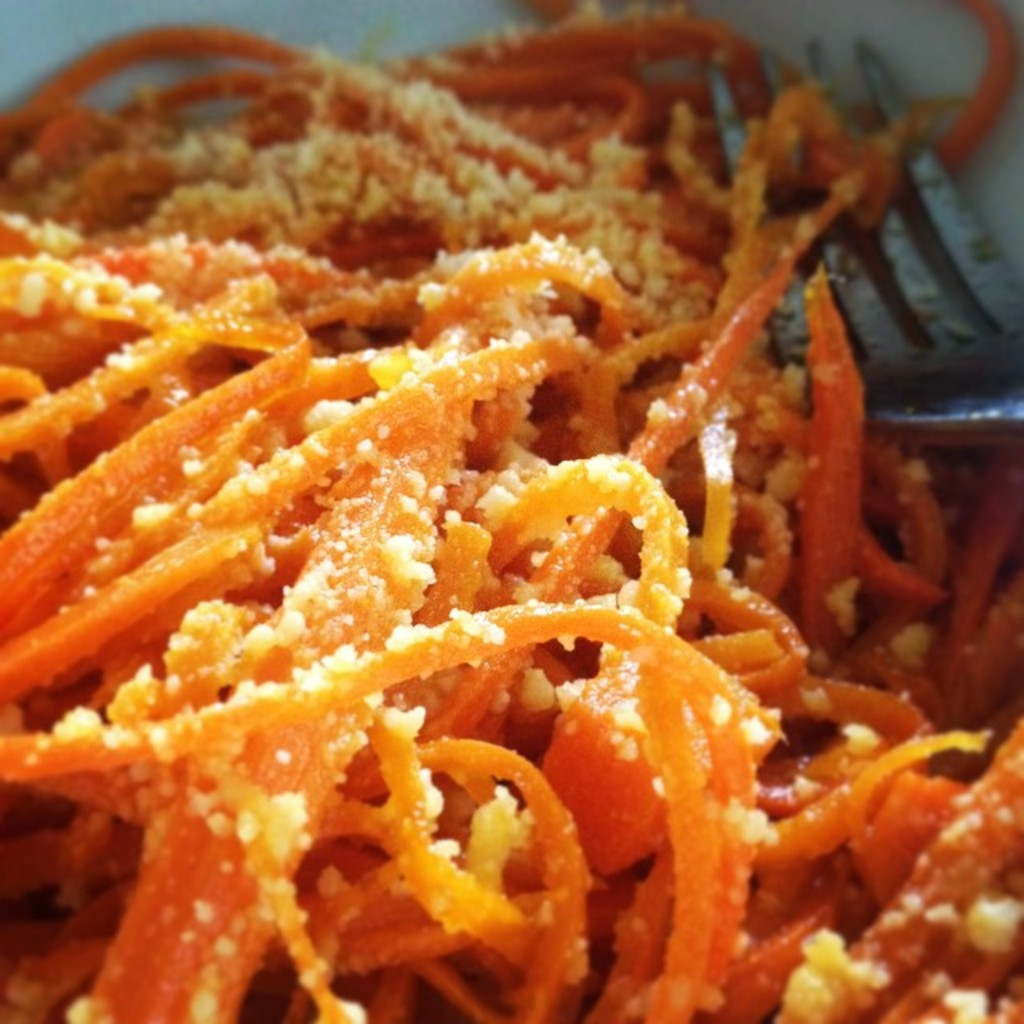pasta: (3, 0, 1022, 1022)
